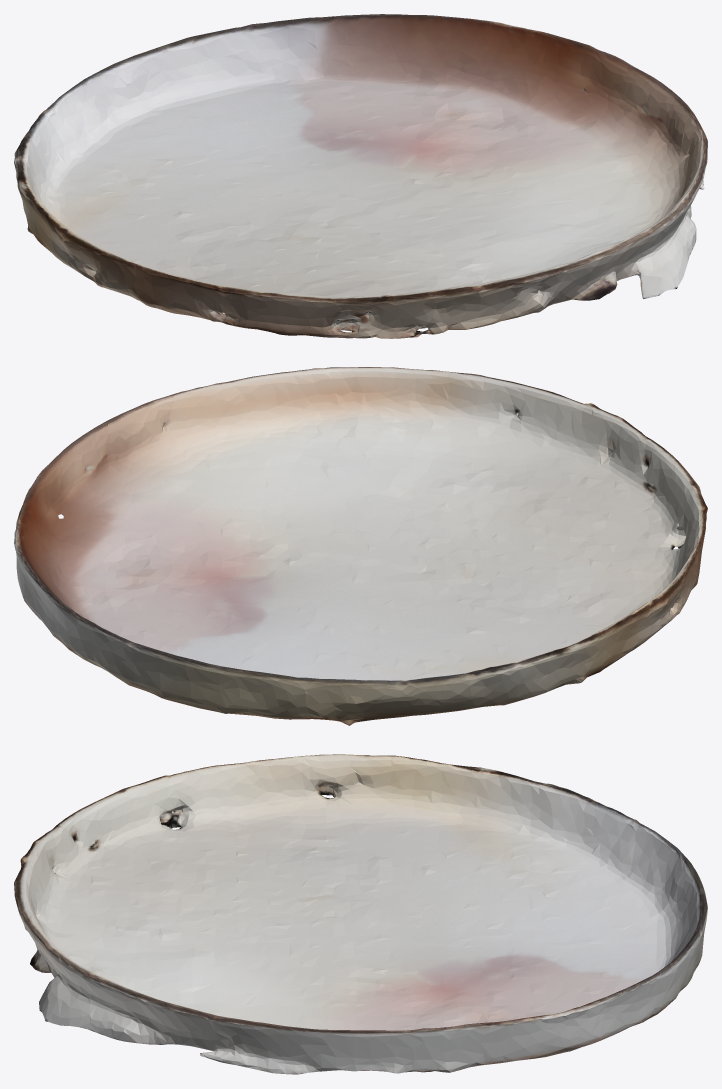
The picture shows the model from 3 angles, top to bottom: view 1: azimuth 30°, elevation 25°; view 2: azimuth 150°, elevation 25°; view 3: azimuth 270°, elevation 25°; orthographic projection.
Parts seen in each view (by area): view 1: world; view 2: world; view 3: world.
Part boxes in pixels (x1,y1,x2,y2): world: (14, 14, 707, 338); world: (14, 367, 707, 725); world: (14, 754, 707, 1074).
Size of the model in its own units: 0.9666 by 0.1568 by 0.9855.
1 material, 1 textured.
